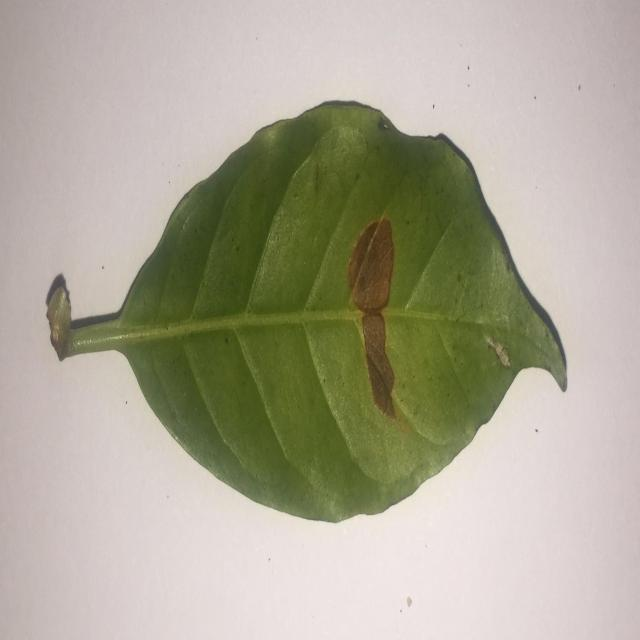Plaga-Minador: (43, 101, 569, 526)
